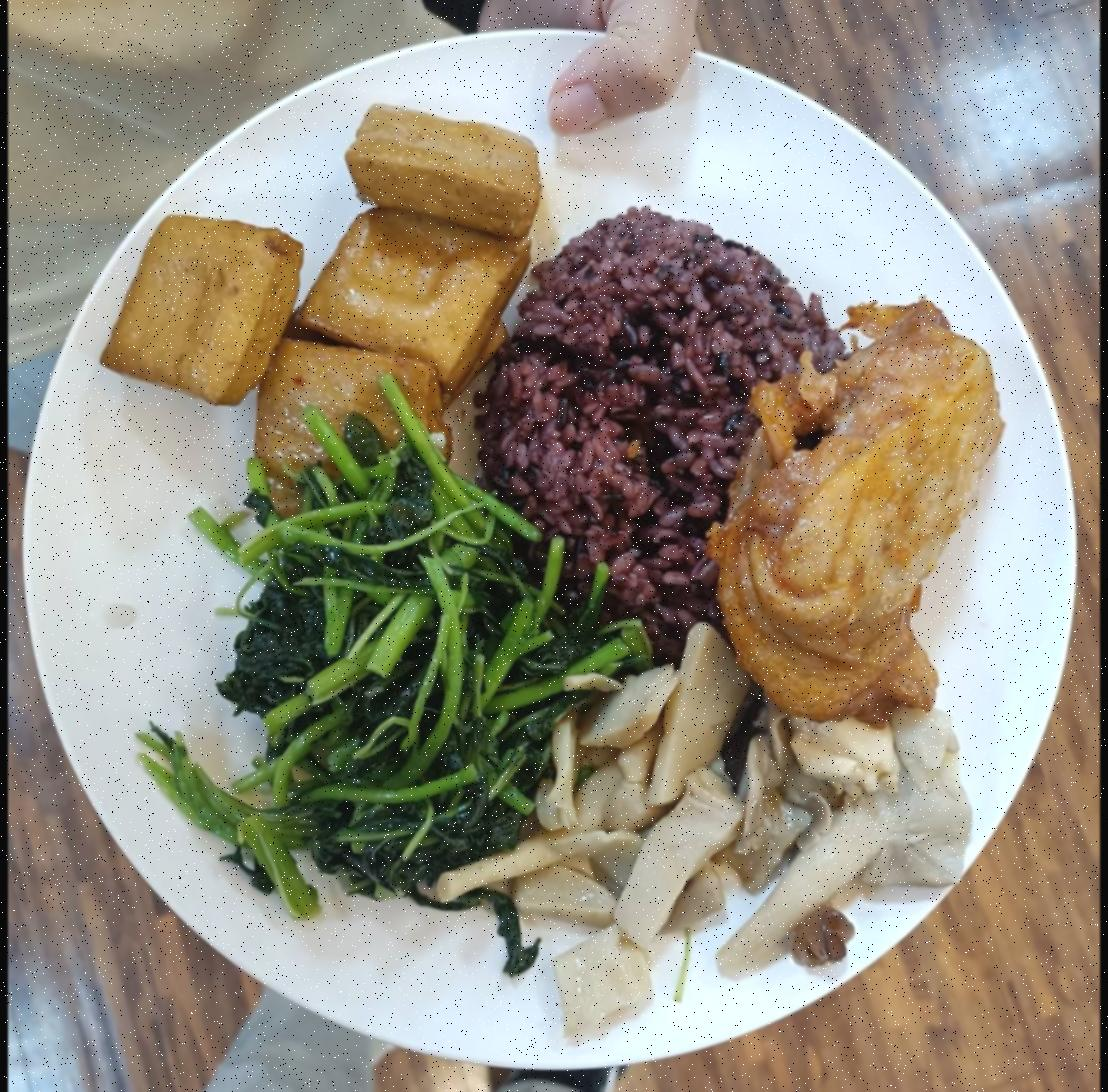grilled chicken leg steak: (720, 325, 1014, 710)
plate: (41, 13, 1072, 1072)
purple rice: (511, 213, 776, 628)
side dish: (91, 104, 541, 508), (211, 478, 588, 902), (528, 656, 962, 990)
